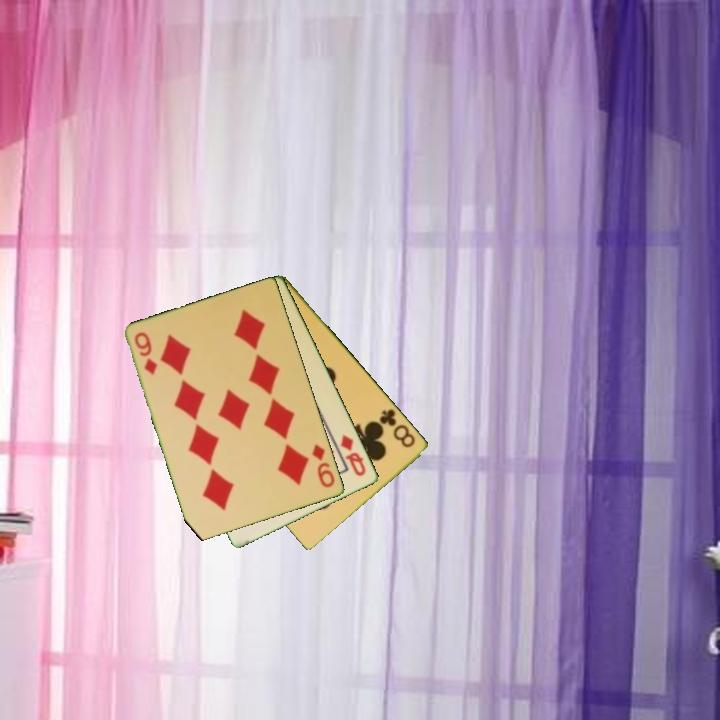8c: (376, 405, 419, 451)
9d: (131, 329, 161, 378), (309, 441, 338, 491)
Qd: (337, 431, 369, 480)
